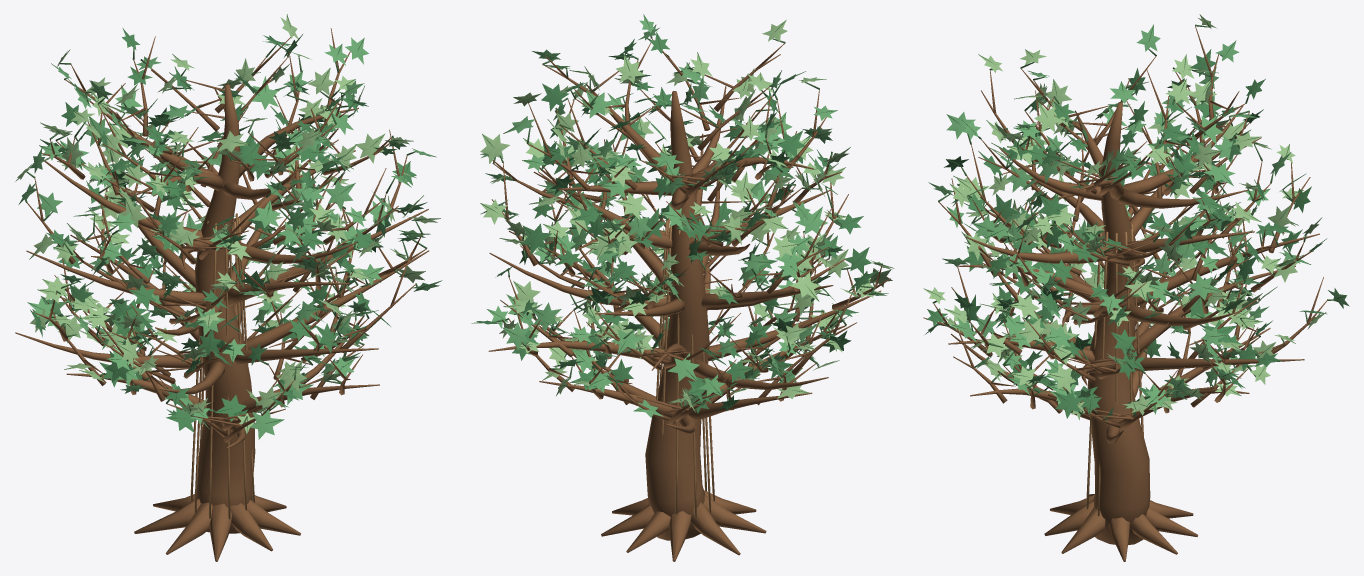
File: maple.glb
3 renders of one model, left to right at view 1: azimuth 30°, elevation 25°; view 2: azimuth 150°, elevation 25°; view 3: azimuth 270°, elevation 25°, orthographic. The views are drawn at different scales.
Parts seen in each view (by area): view 1: Maple trunk and branches, Maple leaves 3, Maple leaves 2, Maple leaves 1, Maple veins, Maple raised bark; view 2: Maple trunk and branches, Maple leaves 3, Maple leaves 2, Maple leaves 1, Maple veins, Maple raised bark; view 3: Maple trunk and branches, Maple leaves 3, Maple leaves 1, Maple leaves 2, Maple veins, Maple raised bark.
Part boxes in pixels (x1,y1,x2,y2): Maple trunk and branches: [15, 28, 429, 561]; Maple leaves 3: [15, 15, 438, 433]; Maple leaves 2: [18, 37, 441, 439]; Maple leaves 1: [30, 29, 426, 432]; Maple veins: [20, 14, 441, 434]; Maple raised bark: [190, 213, 254, 519]; Maple trunk and branches: [488, 38, 890, 561]; Maple leaves 3: [480, 20, 892, 412]; Maple leaves 2: [481, 15, 886, 417]; Maple leaves 1: [475, 32, 877, 413]; Maple veins: [472, 14, 894, 411]; Maple raised bark: [656, 218, 714, 518]; Maple trunk and branches: [923, 25, 1327, 561]; Maple leaves 3: [924, 15, 1323, 420]; Maple leaves 1: [926, 49, 1326, 418]; Maple leaves 2: [925, 25, 1349, 423]; Maple veins: [923, 14, 1346, 418]; Maple raised bark: [1086, 224, 1143, 518].
Size of the model in its own units: 1.94 by 2.27 by 1.87.
